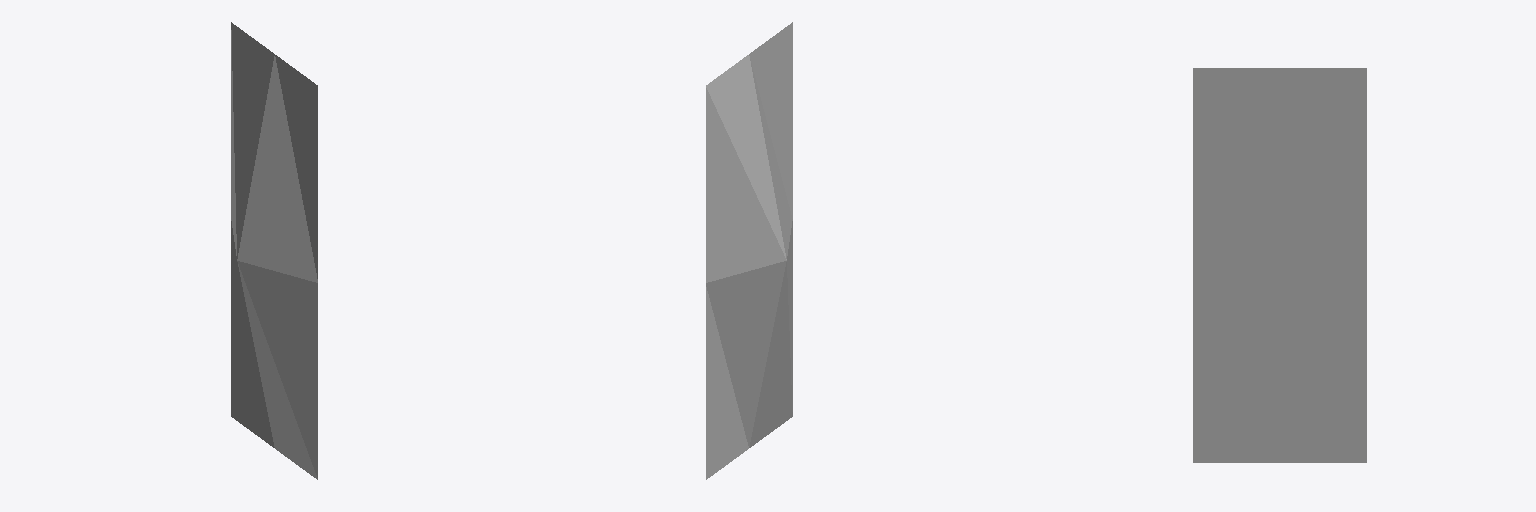
Rendered from Battery-Type-0-Debris-Panel-3.obj.
3 views of the same model, side by side, from view 1: azimuth 30°, elevation 25°; view 2: azimuth 150°, elevation 25°; view 3: azimuth 270°, elevation 25° (orthographic).
Parts seen in each view (by area): view 1: Battery-Type-0-Debris-Panel-3; view 2: Battery-Type-0-Debris-Panel-3; view 3: Battery-Type-0-Debris-Panel-3.
Boxes of the visible parts, <box> form: Battery-Type-0-Debris-Panel-3: <box>231,22,317,479</box>; Battery-Type-0-Debris-Panel-3: <box>706,22,792,479</box>; Battery-Type-0-Debris-Panel-3: <box>1193,68,1366,462</box>.
Bounding box in the file's own units: 0.1 × 1 × 0.4.